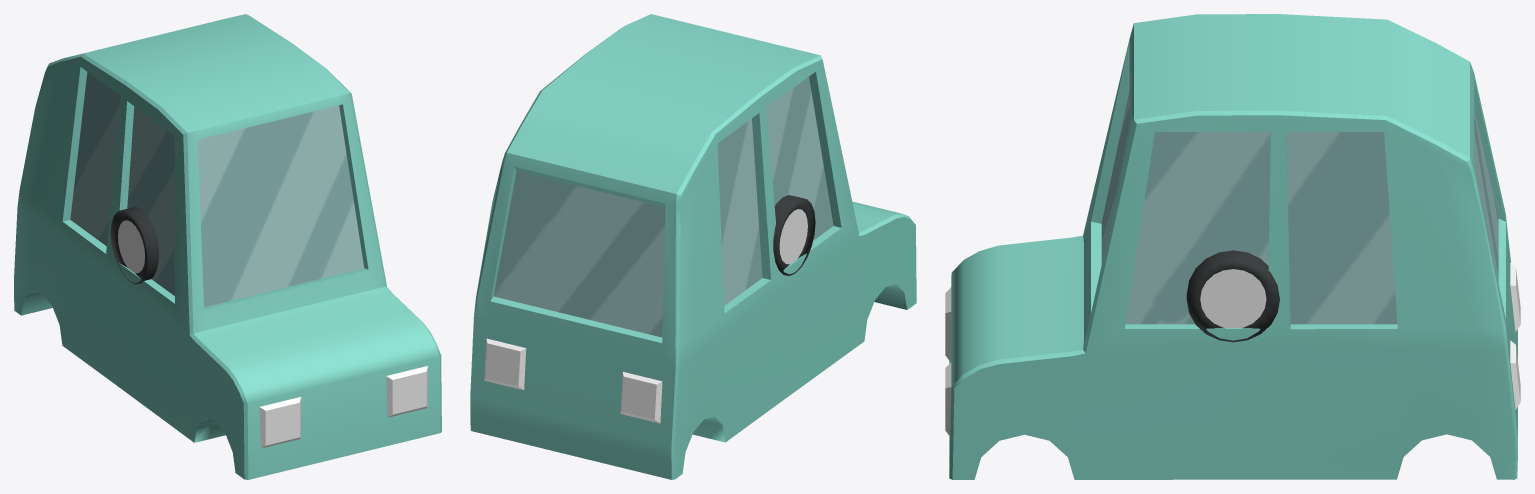
Rendered from car_4_T.fbx.
3 views of the same model, side by side, from view 1: azimuth 30°, elevation 25°; view 2: azimuth 150°, elevation 25°; view 3: azimuth 270°, elevation 25° (orthographic). The views are drawn at different scales.
Parts seen in each view (by area): view 1: car_4_chasis_T, car_4_back_wheel_T, car_4_right_wheel_T; view 2: car_4_chasis_T, car_4_back_wheel_T; view 3: car_4_chasis_T, car_4_left_wheel_T.
Boxes of the visible parts, x1,y1,x2,y2 form: car_4_chasis_T: (14,14,441,479); car_4_back_wheel_T: (110,207,157,284); car_4_right_wheel_T: (126,207,158,281); car_4_chasis_T: (470,14,916,479); car_4_back_wheel_T: (773,195,815,275); car_4_chasis_T: (945,14,1520,479); car_4_left_wheel_T: (1186,250,1279,342).
Size of the model in its own units: 81.53 by 117 by 169.
